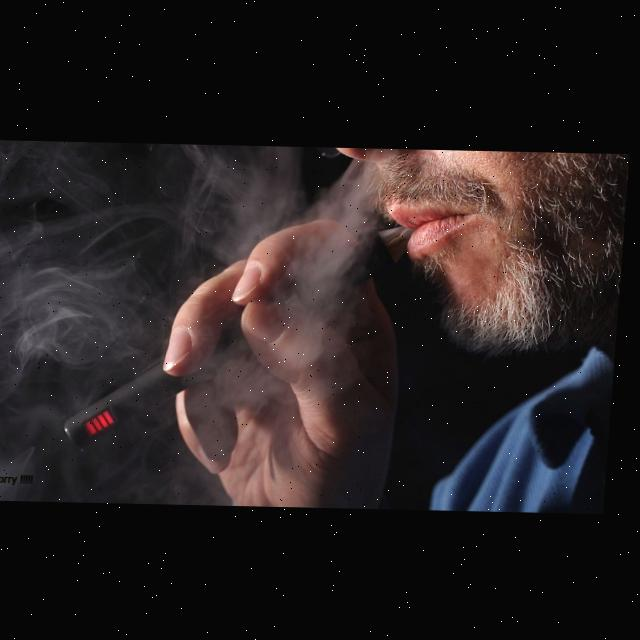vape: (70, 217, 415, 458)
